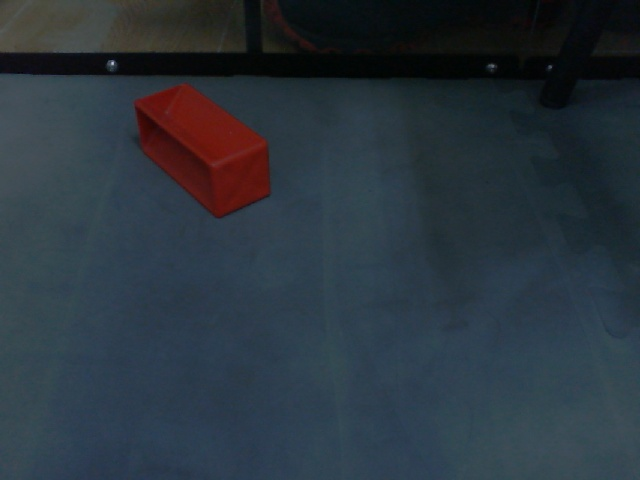RedSample: (132, 81, 274, 220)
